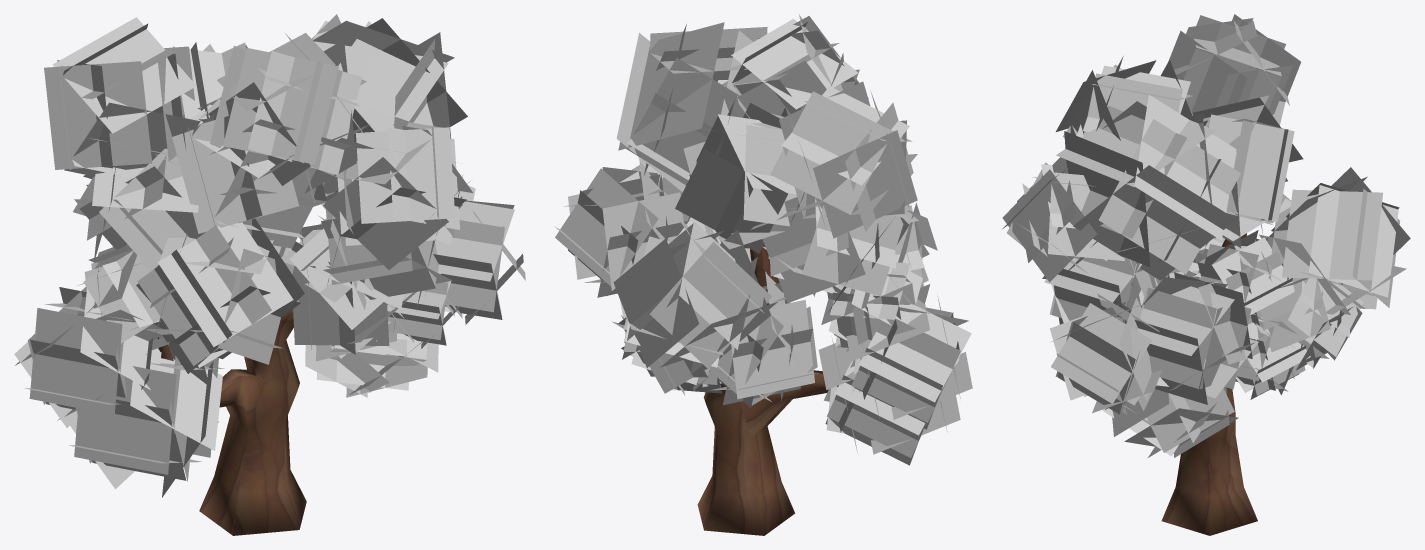
The model's file is SM_Tree_01.fbx.
The picture shows the model from 3 angles, left to right: view 1: azimuth 30°, elevation 25°; view 2: azimuth 150°, elevation 25°; view 3: azimuth 270°, elevation 25°; orthographic projection. The views are drawn at different scales.
Parts seen in each view (by area): view 1: SM_Tree_01; view 2: SM_Tree_01; view 3: SM_Tree_01.
Boxes of the visible parts, left/top/right/bottom form: SM_Tree_01: left=14, top=14, right=525, bottom=535; SM_Tree_01: left=554, top=14, right=972, bottom=535; SM_Tree_01: left=1002, top=14, right=1410, bottom=535.
Size of the model in its own units: 690 by 732 by 610.
